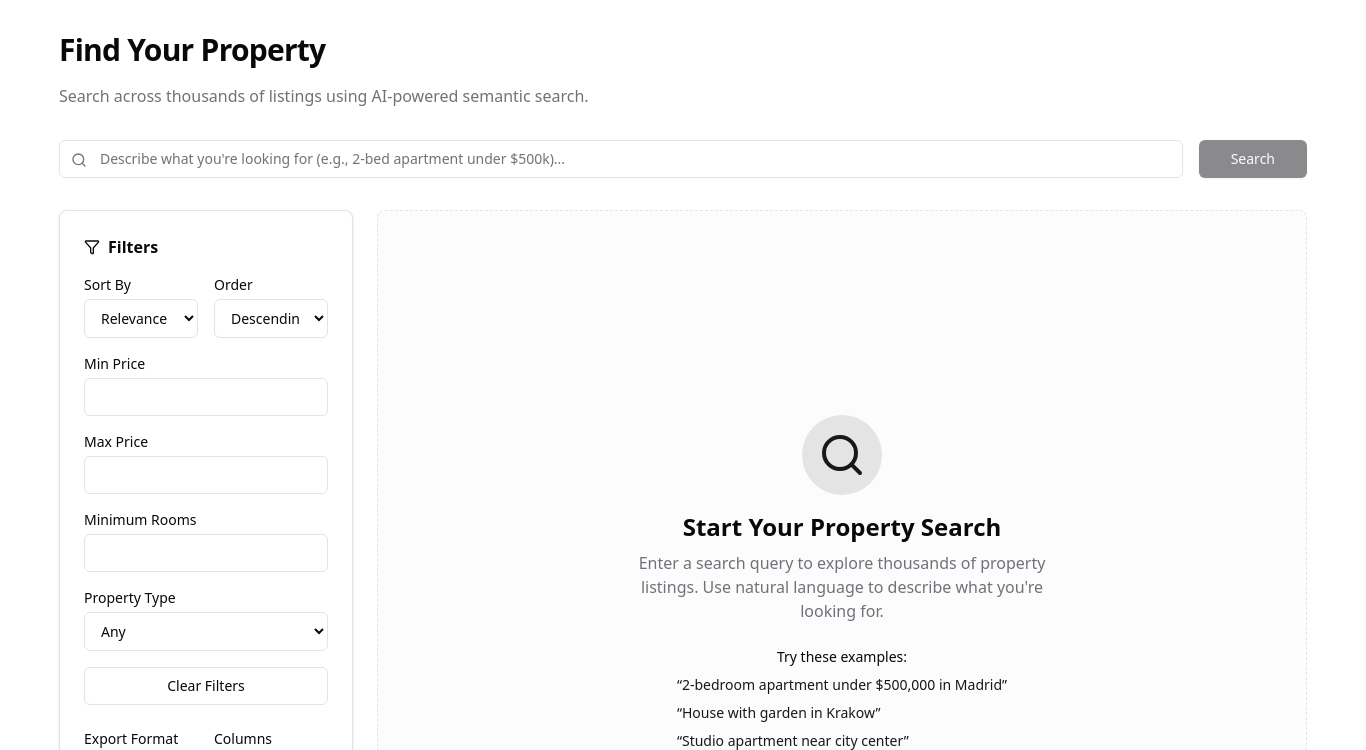
Test: SearchPage › displays error message on failure
Replace the text in the field named "Search query" with "Error" at [621, 159], box [59,140,1183,178]
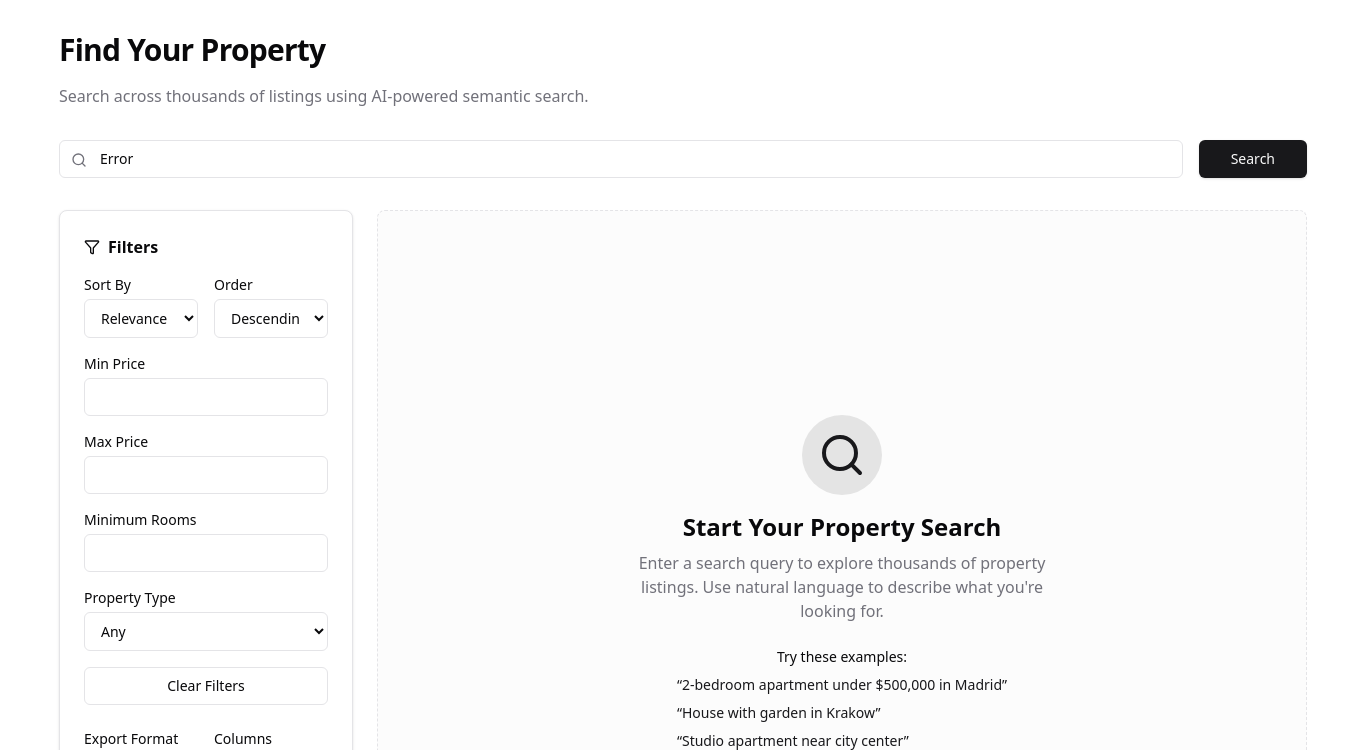
Click the button "Search" at [1253, 159], box [1199,140,1307,178]
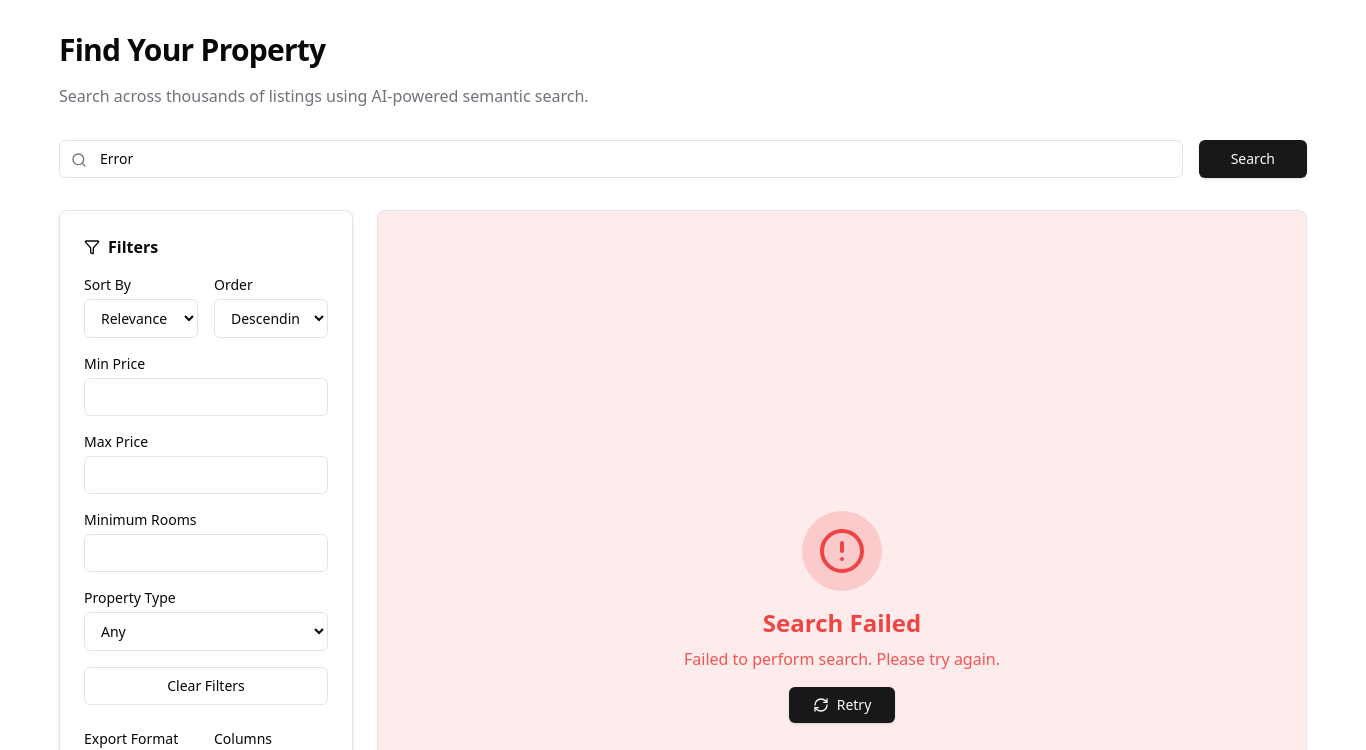
expect the text "Failed to perform search. Please try again." is shown: met, box [684,646,1000,670]
